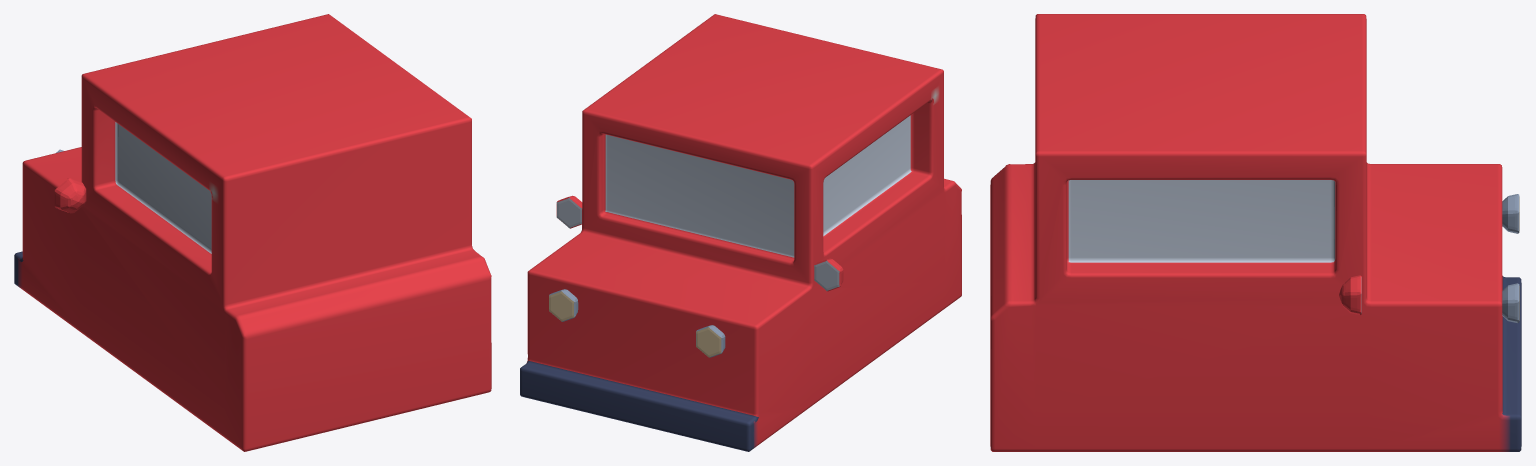
The model's file is car.glb.
3 renders of one model, left to right at view 1: azimuth 30°, elevation 25°; view 2: azimuth 150°, elevation 25°; view 3: azimuth 270°, elevation 25°, orthographic. The views are drawn at different scales.
Visible parts, largest first — view 1: Car; view 2: Car; view 3: Car.
Boxes of the visible parts, <box> form: Car: <box>14,14,491,451</box>; Car: <box>520,14,961,451</box>; Car: <box>990,14,1521,451</box>.
Bounding box in the file's own units: 1.23 × 1 × 1.6.
1 material, 1 textured.
